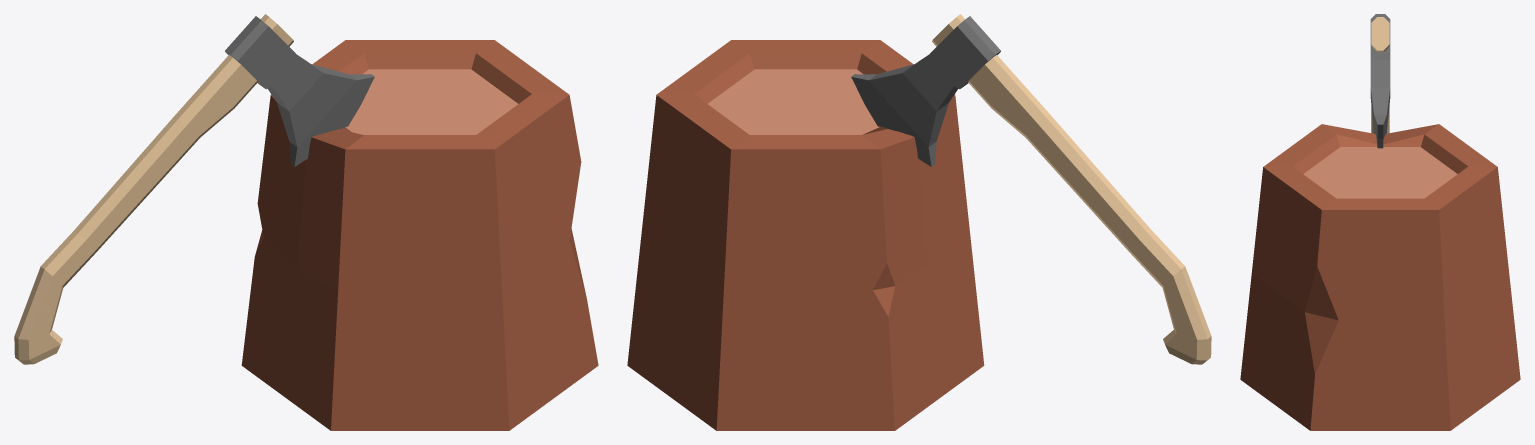
Rendered from Axe.glb.
3 renders of one model, left to right at view 1: azimuth 30°, elevation 25°; view 2: azimuth 150°, elevation 25°; view 3: azimuth 270°, elevation 25°, orthographic. The views are drawn at different scales.
Visible parts, largest first — view 1: LogWAxe_Cylinder.012; view 2: LogWAxe_Cylinder.012; view 3: LogWAxe_Cylinder.012.
Part boxes in pixels (x1=…): LogWAxe_Cylinder.012: x1=14, y1=14, x2=598, y2=430; LogWAxe_Cylinder.012: x1=627, y1=14, x2=1211, y2=430; LogWAxe_Cylinder.012: x1=1240, y1=14, x2=1520, y2=430.
Bounding box in the file's own units: 1.36 × 0.9344 × 0.78.
